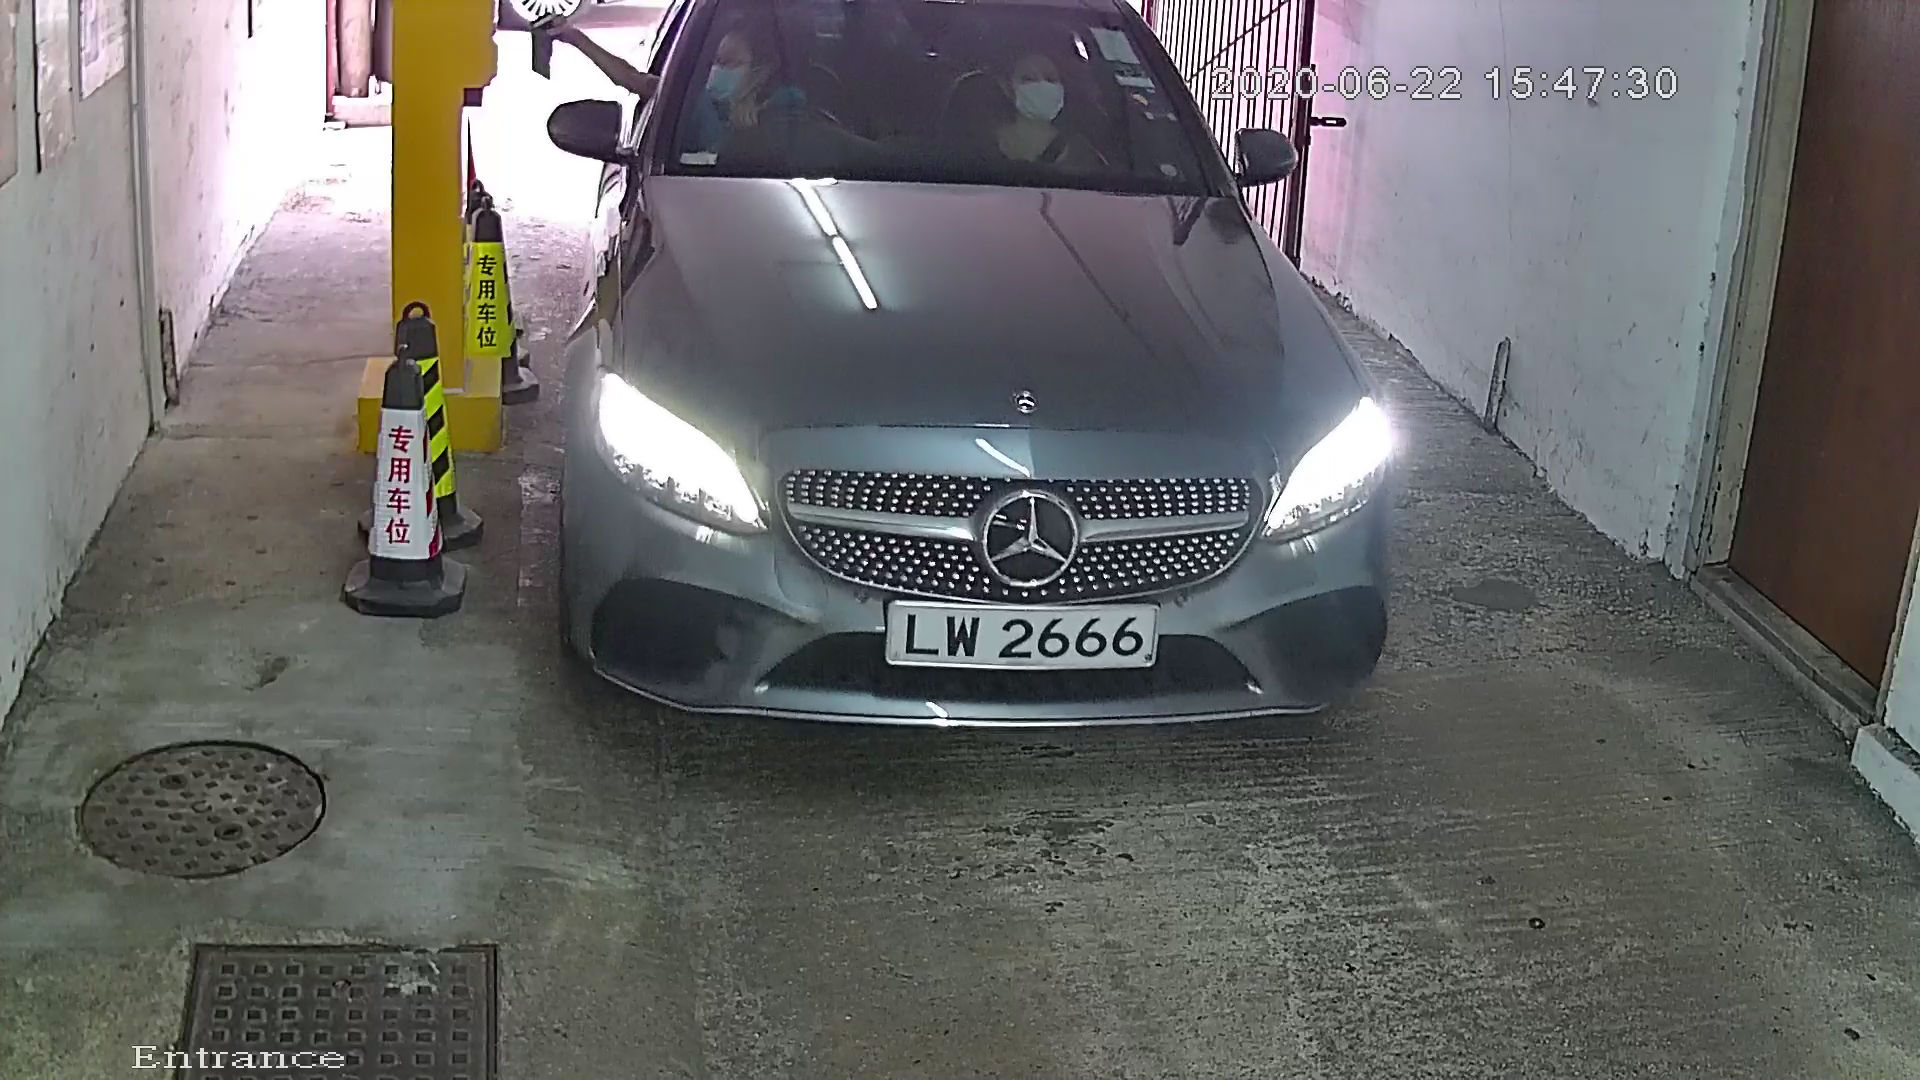privatecar: (491, 1, 1468, 796)
